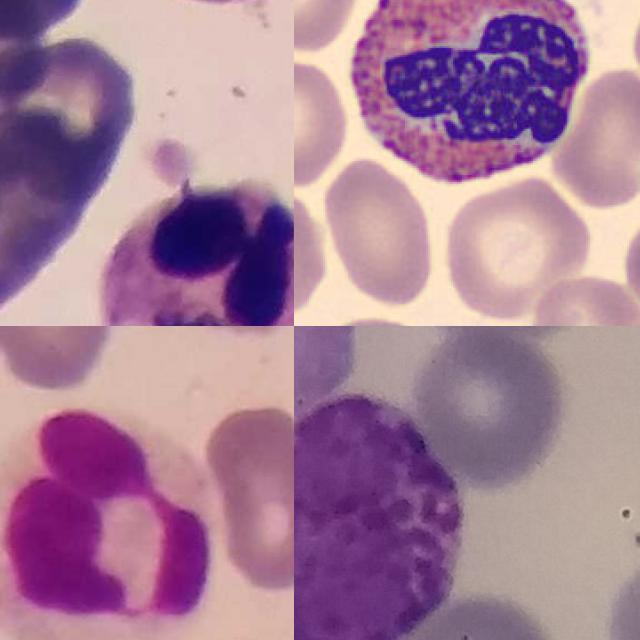Basophil: (294, 388, 465, 640)
Eosinophil: (335, 0, 600, 196)
Neutrophil: (0, 405, 226, 640), (99, 182, 294, 326)
RBC: (439, 174, 597, 322), (318, 154, 439, 311), (549, 64, 640, 212), (294, 53, 353, 190), (526, 272, 640, 326), (294, 184, 330, 318)
